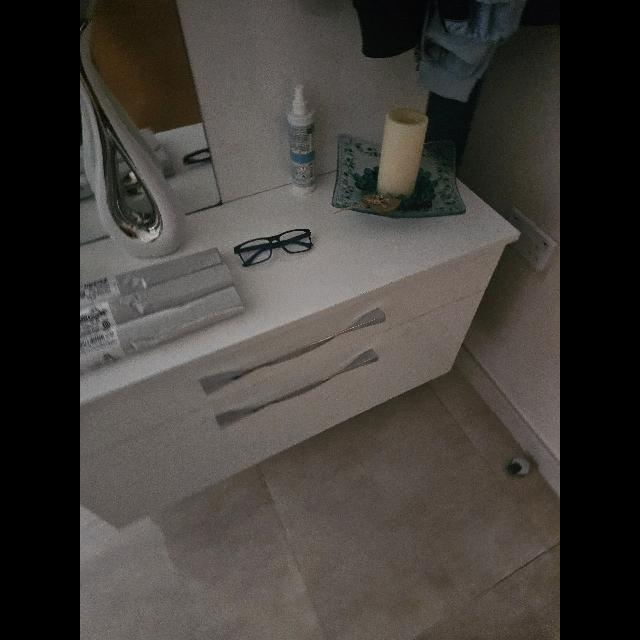glasses: (234, 229, 312, 267)
